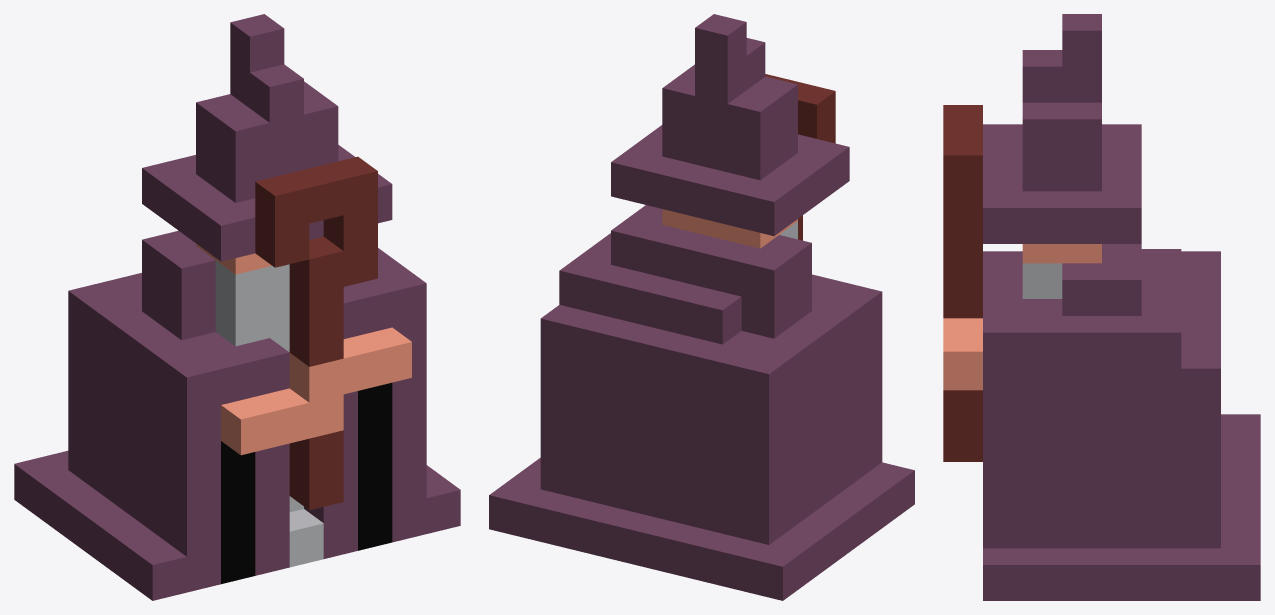
Rendered from mage_action_0.obj.
The picture shows the model from 3 angles, left to right: view 1: azimuth 30°, elevation 25°; view 2: azimuth 150°, elevation 25°; view 3: azimuth 270°, elevation 25°; orthographic projection. The views are drawn at different scales.
Size of the model in its own units: 0.9 by 1.4 by 0.8.
1 material, 1 textured.
